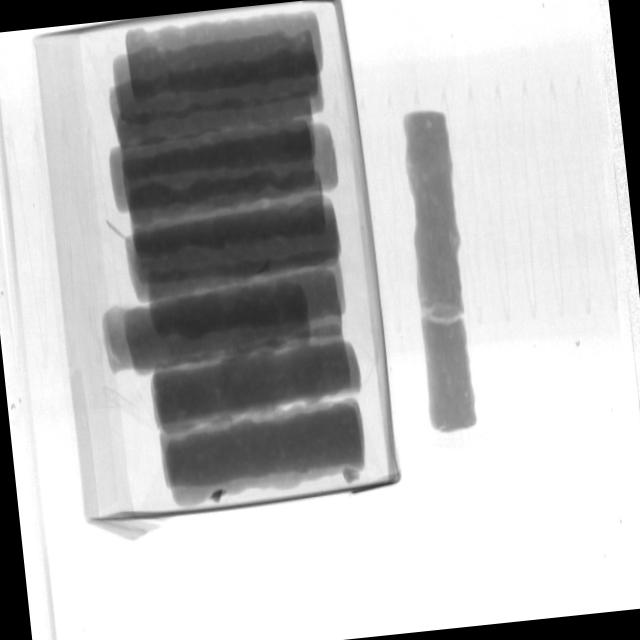ym: (107, 219, 130, 241), (343, 466, 362, 487), (209, 489, 227, 505), (257, 262, 272, 273)
